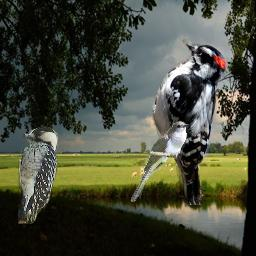Cuckoo: (130, 121, 189, 202)
Woodpecker: (151, 39, 229, 205), (18, 126, 58, 224)
